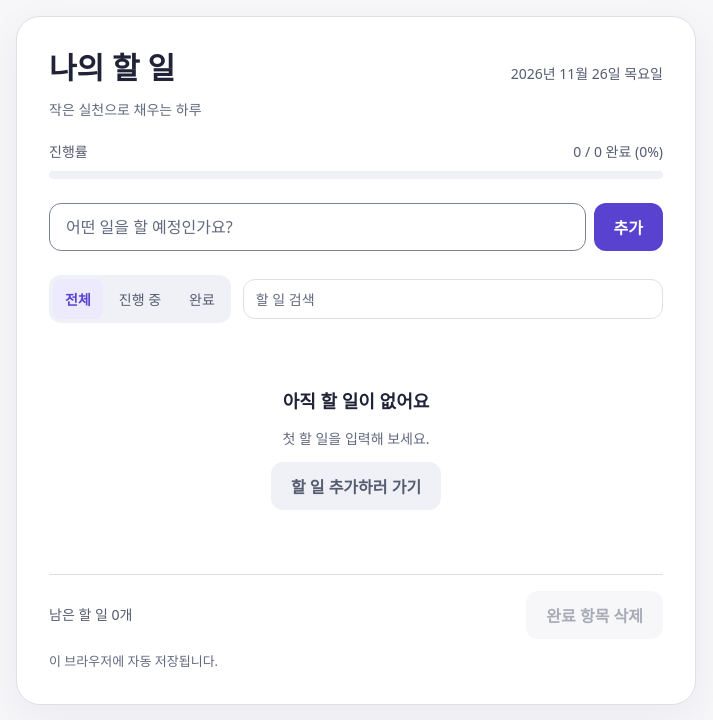
Scenario: App 통합 및 접근성 테스트 › 한글 IME 조합 중(isComposing: true) Enter 키는 제출을 막는다
Type "한글입력" into the field with placeholder "어떤 일을 할 예정인가요?" at (317, 227), box top-left (49, 203), bottom-right (586, 251)
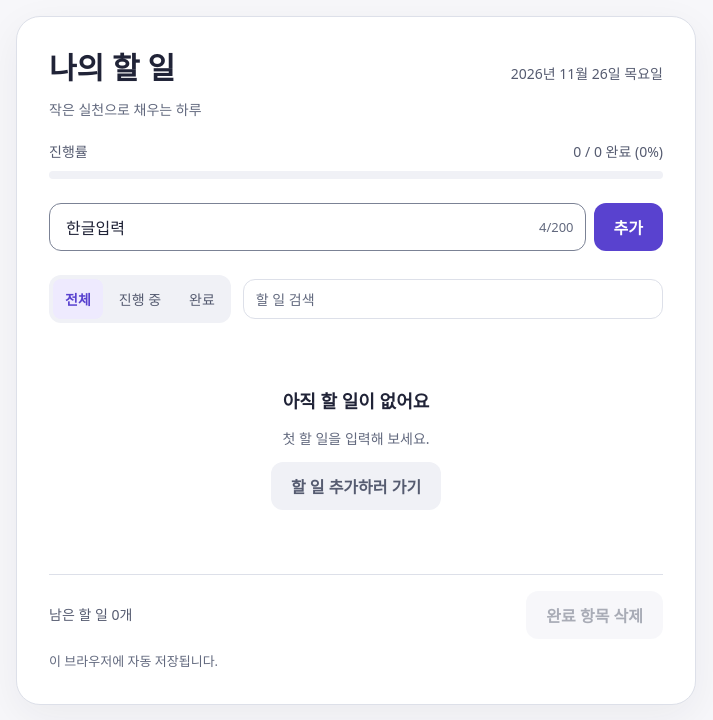
Press Enter in the field with placeholder "어떤 일을 할 예정인가요?", box top-left (49, 203), bottom-right (586, 251)
Press Enter in the field with placeholder "어떤 일을 할 예정인가요?", box top-left (49, 203), bottom-right (586, 251)
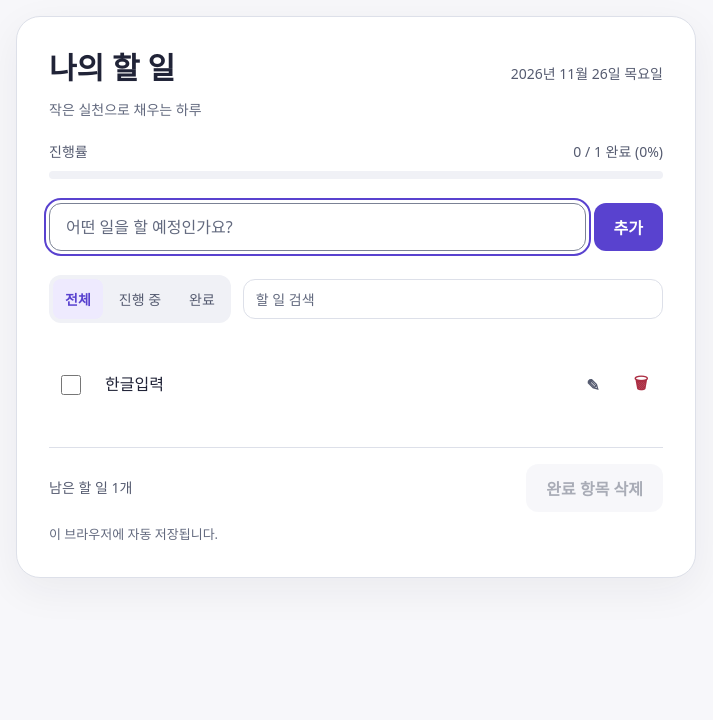
Check: the text "한글입력" is shown, box top-left (105, 374), bottom-right (164, 396)
